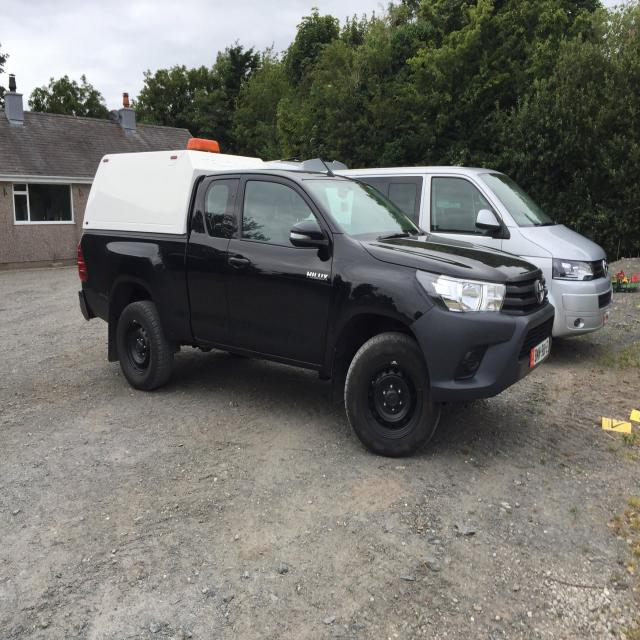light_vehicle: (56, 136, 568, 476)
